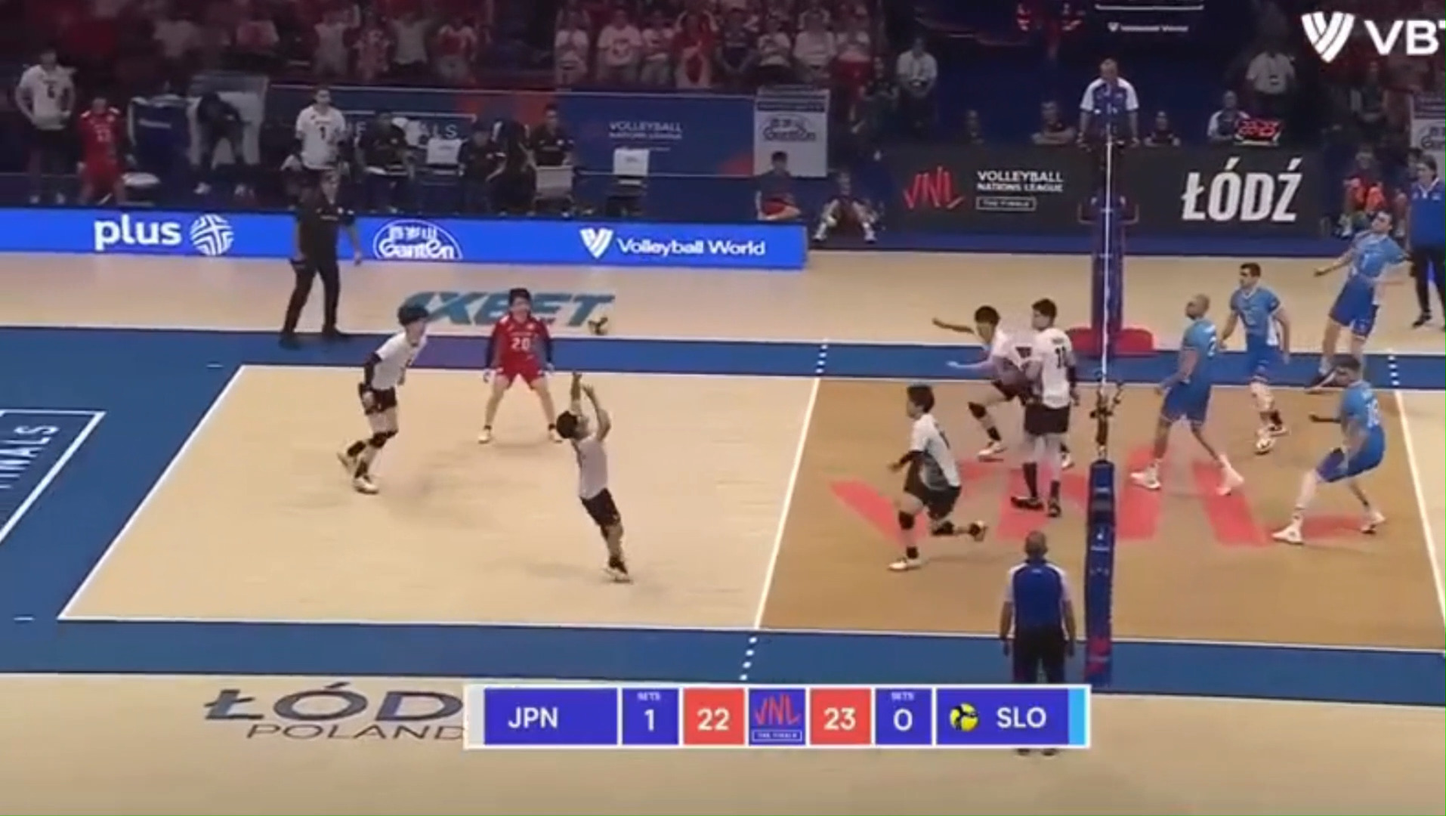ball: (586, 315, 609, 336)
player: (1130, 295, 1241, 494), (1272, 358, 1385, 545), (1219, 262, 1290, 453), (1317, 212, 1406, 360), (1312, 362, 1336, 390)
player 1: (890, 384, 986, 570), (555, 374, 630, 582), (344, 307, 426, 492), (932, 305, 1027, 459), (1011, 298, 1075, 516), (478, 288, 561, 443)
referee: (280, 171, 361, 347), (1000, 530, 1075, 683), (1077, 58, 1139, 225), (1408, 154, 1445, 326)
